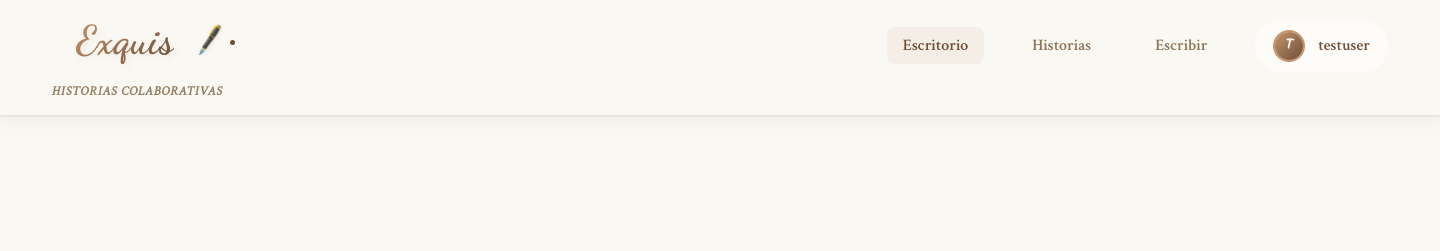
Test: Header Component › Dropdown de usuario › abre el dropdown al hacer click en el perfil
Click the button "T testuser".
click(1322, 46)  # box [1255,20,1388,72]
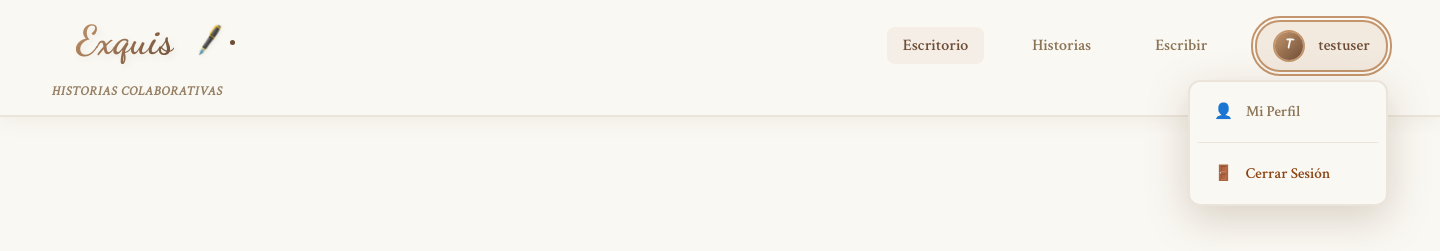
Result: the link "👤 Mi Perfil" is shown at [1214,102,1300,121]
Result: the button "🚪 Cerrar Sesión" is shown at [1198,151,1378,196]
